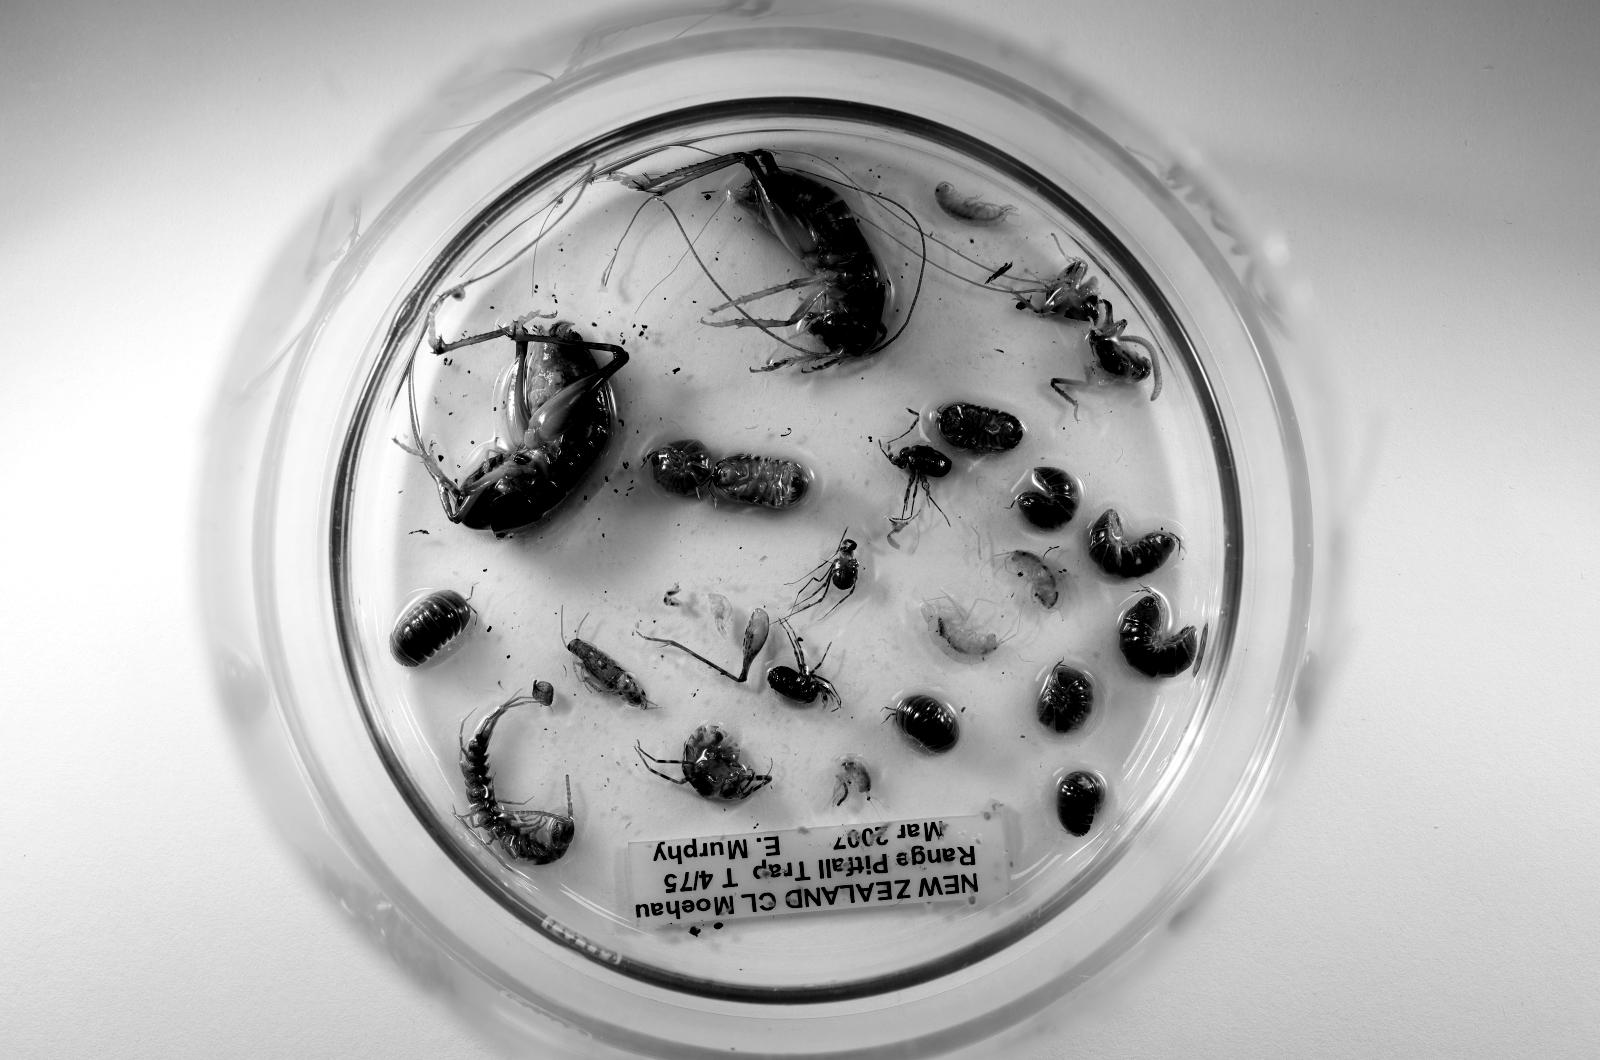amphipoda: (922, 599, 1003, 665), (934, 183, 1016, 227), (1006, 550, 1059, 609), (831, 755, 872, 807)
blattodea: (566, 637, 653, 708)
chilopoda: (459, 696, 575, 866)
diplopoda: (1122, 335, 1162, 401)
isopoda: (1119, 593, 1197, 677), (391, 590, 472, 668), (1088, 509, 1178, 578), (712, 453, 809, 506), (938, 404, 1022, 453), (1038, 661, 1094, 733), (1016, 469, 1081, 531), (891, 696, 959, 752), (647, 441, 712, 494), (1056, 773, 1103, 835)
opiliones: (878, 441, 950, 547), (769, 621, 841, 708), (791, 537, 859, 615)
orthoptera: (609, 149, 888, 373), (406, 317, 628, 537), (650, 727, 772, 801)
